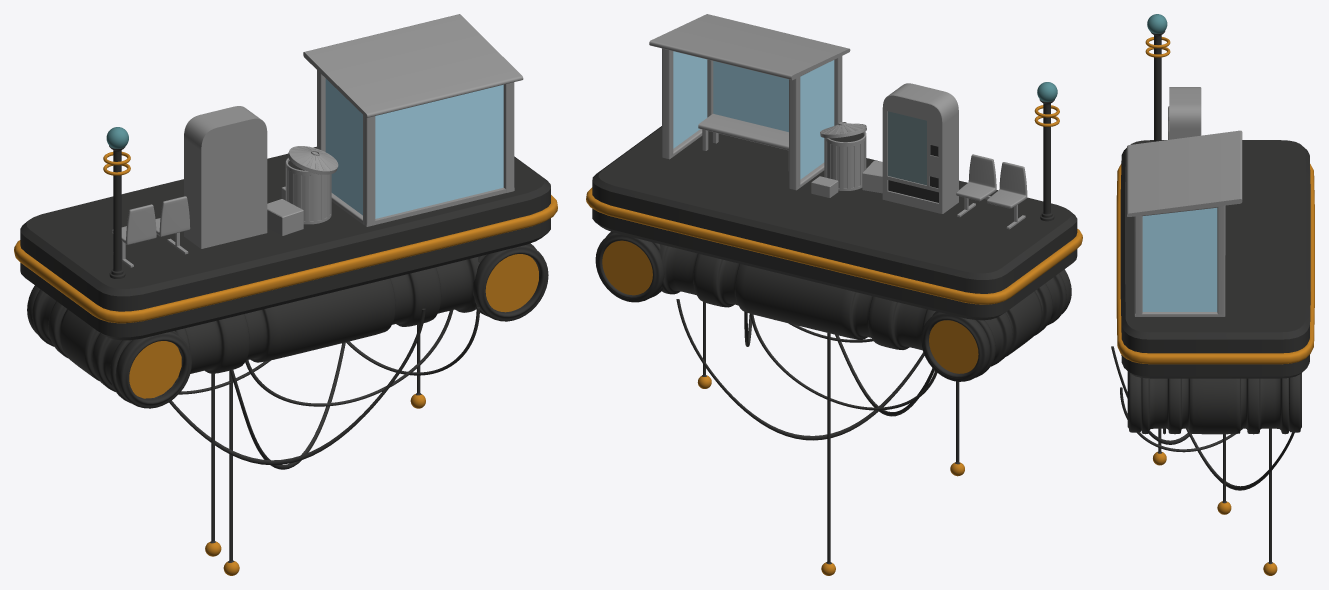
Rendered from Bus Station.fbx.
3 renders of one model, left to right at view 1: azimuth 30°, elevation 25°; view 2: azimuth 150°, elevation 25°; view 3: azimuth 270°, elevation 25°, orthographic. The views are drawn at different scales.
Parts seen in each view (by area): view 1: Surface, Glass02, shed, Drink machine, Pipe (×2), Cylinder827, Cylinder828, LED strip, LED (×2), frame (×4), Glass03, Cylinder825 (+10 smaller); view 2: Surface, Drink machine, Pipe (×2), shed, Cylinder817, Cylinder818, LED strip, LED (×2), Glass02, Glass03, Glass01, frame (×2) (+8 smaller); view 3: Surface, Pipe, shed, Glass01, LED strip, frame (×3), Drink machine, Cylinder826, Cylinder816, Cylinder820, Cylinder821, Cylinder819 (+1 smaller).
Part boxes in pixels (box(x1,y1,x2,y2)): Surface: box(20, 146, 550, 340); Glass02: box(375, 84, 503, 218); shed: box(303, 14, 523, 117); Drink machine: box(184, 106, 267, 248); Pipe (×2): box(27, 243, 548, 408); Cylinder827: box(324, 257, 479, 346); Cylinder828: box(175, 294, 336, 381); LED strip: box(14, 195, 557, 323); LED (×2): box(129, 254, 538, 398); frame (×4): box(317, 70, 514, 226); Glass03: box(325, 78, 362, 215); Cylinder825: box(285, 158, 331, 224); Surface: box(592, 126, 1077, 320); Drink machine: box(882, 83, 958, 213); Pipe (×2): box(595, 231, 1071, 381); shed: box(649, 14, 850, 80); Cylinder817: box(658, 244, 799, 325); Cylinder818: box(788, 278, 935, 350); LED strip: box(586, 187, 1082, 304); LED (×2): box(602, 240, 978, 373); Glass02: box(713, 61, 788, 131); Glass03: box(800, 60, 834, 179); Glass01: box(673, 51, 707, 148); frame (×2): box(662, 48, 800, 190); Surface: box(1120, 140, 1310, 378); Pipe: box(1127, 371, 1301, 434); shed: box(1127, 130, 1242, 216); Glass01: box(1142, 208, 1217, 311); LED strip: box(1116, 164, 1314, 364); frame (×3): box(1134, 205, 1225, 316); Drink machine: box(1169, 87, 1201, 139); Cylinder826: box(1151, 31, 1165, 141); Cylinder816: box(1186, 428, 1294, 490); Cylinder820: box(1120, 387, 1242, 452); Cylinder821: box(1269, 428, 1271, 562); Cylinder819: box(1111, 346, 1189, 444).
Size of the model in its own units: 45.91 by 51.03 by 19.53.
